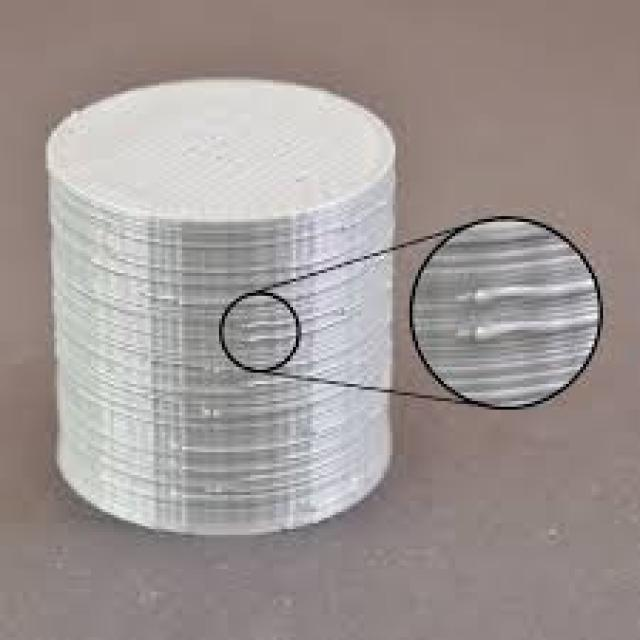blobs: (225, 304, 298, 365), (169, 466, 246, 512)
